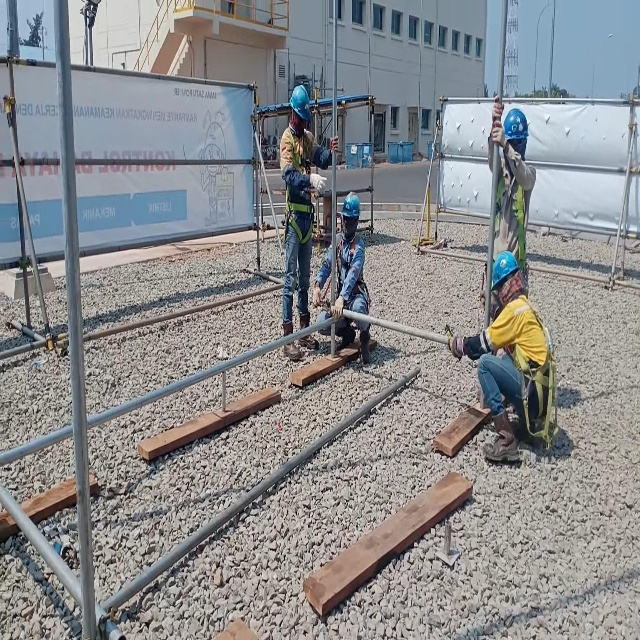Arnes_seguridad: (505, 294, 562, 454), (487, 159, 533, 296), (280, 119, 313, 247), (333, 231, 372, 327)
